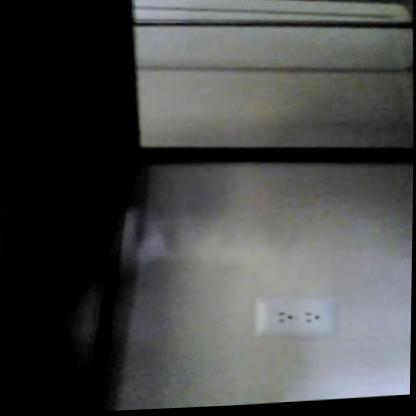OUTLET: (253, 296, 333, 337)
